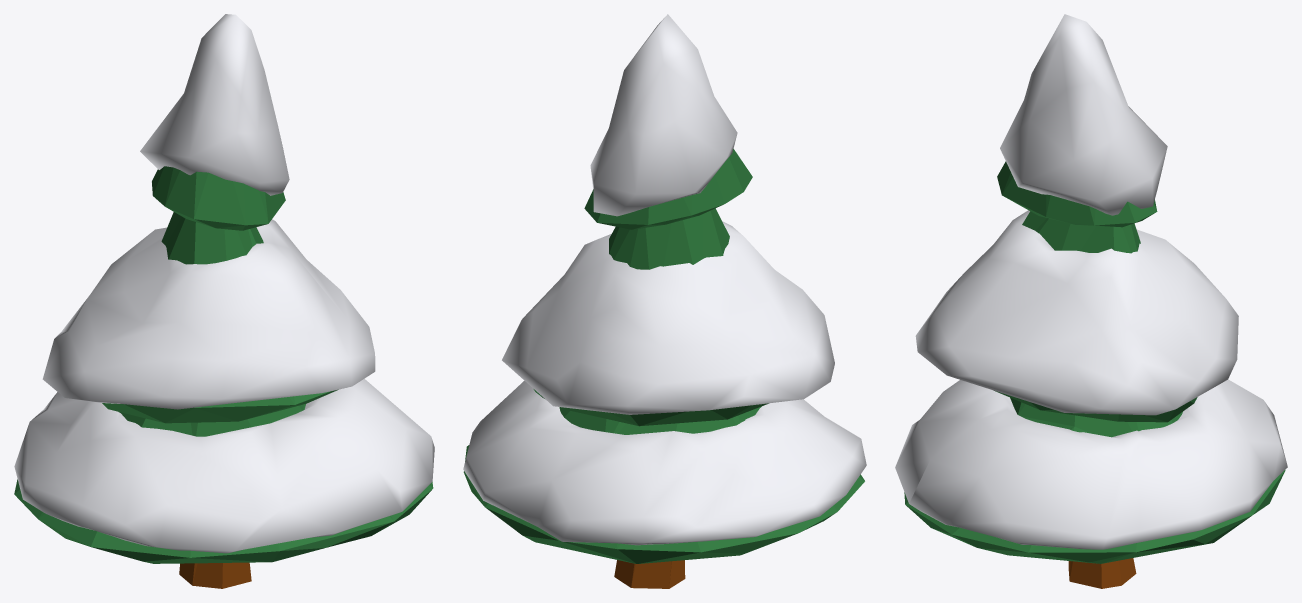
Rendered from SnowTree2.glb.
The picture shows the model from 3 angles, left to right: view 1: azimuth 30°, elevation 25°; view 2: azimuth 150°, elevation 25°; view 3: azimuth 270°, elevation 25°; orthographic projection. The views are drawn at different scales.
Parts seen in each view (by area): view 1: pine.002; view 2: pine.002; view 3: pine.002.
Part boxes in pixels (left/top/right/bottom): pine.002: left=14, top=14, right=434, bottom=588; pine.002: left=463, top=14, right=866, bottom=588; pine.002: left=895, top=14, right=1287, bottom=588.
Bounding box in the file's own units: 1.67 × 2.5 × 1.59.
